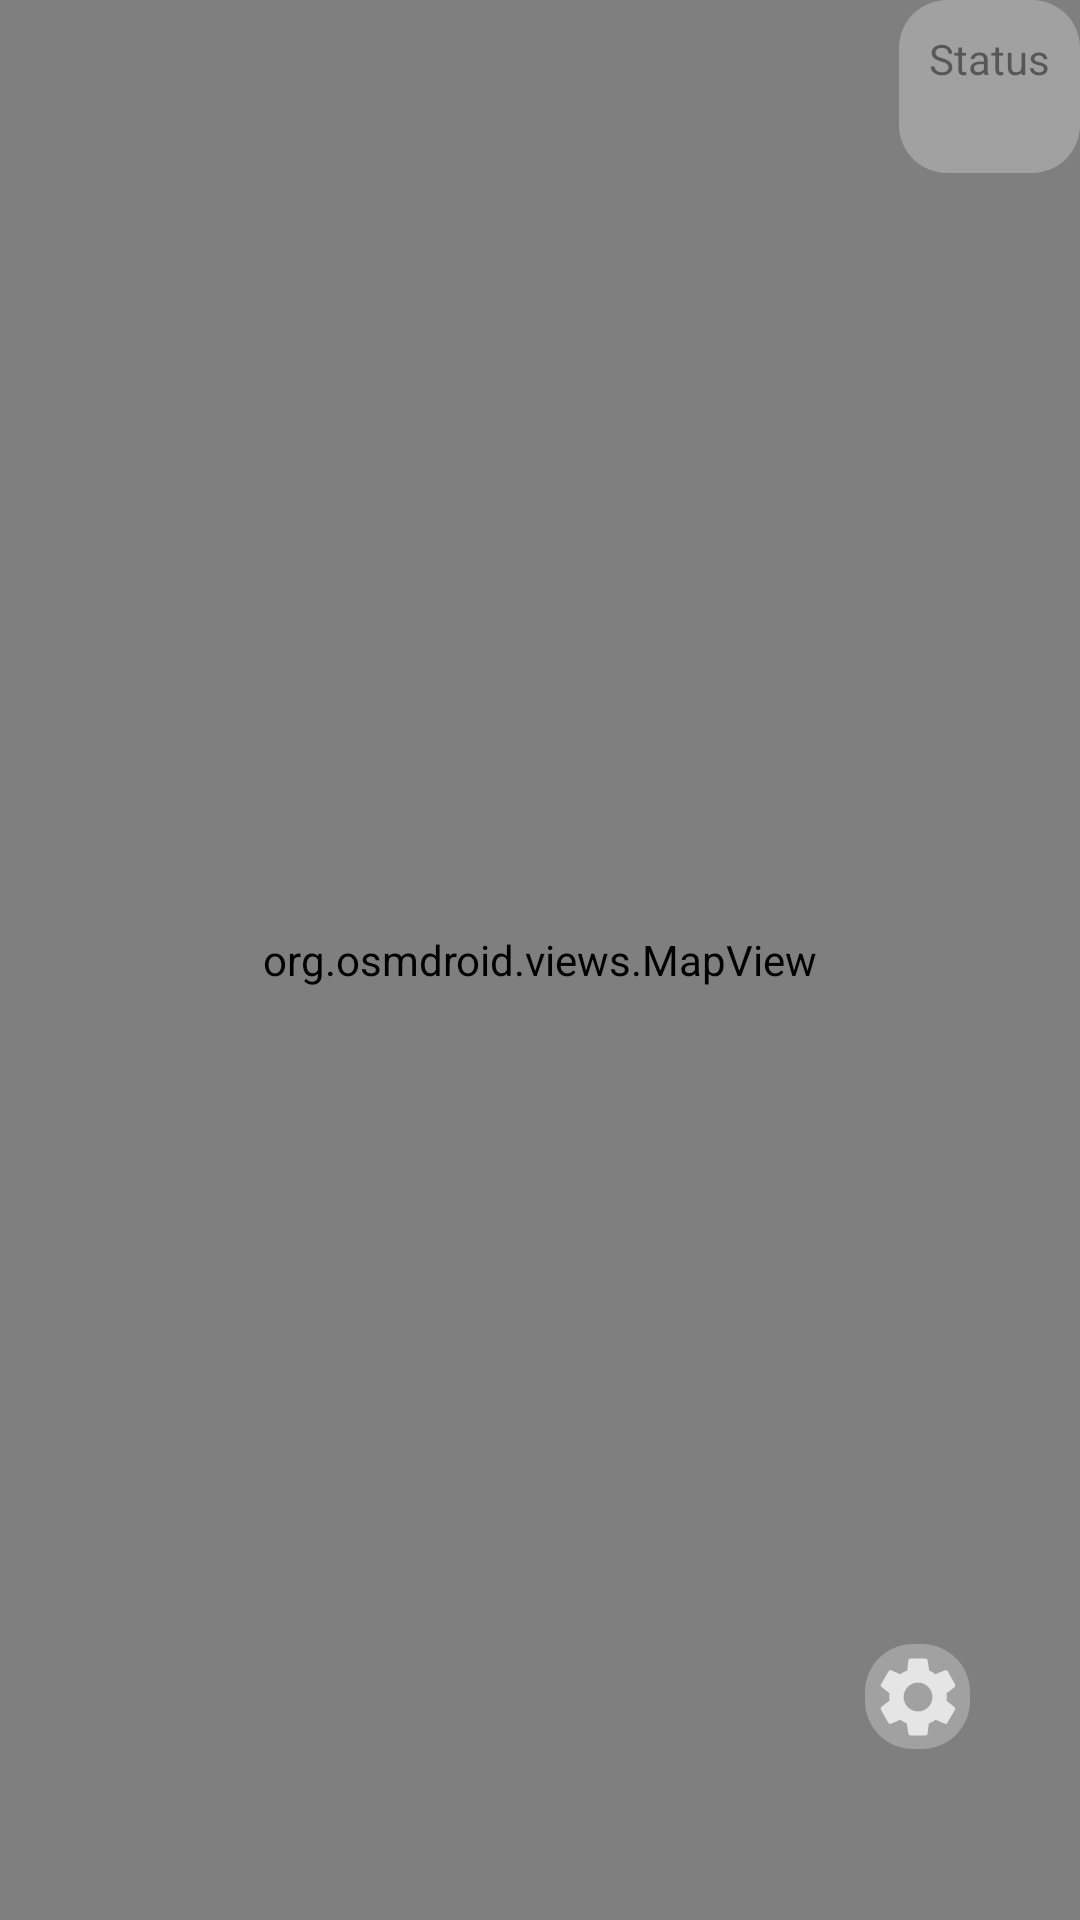

Locate icon controls on the screen. Image size 1080*1920, boxes as (x1, y1, x2, y2).
Settings button: (865, 1644, 970, 1749)
